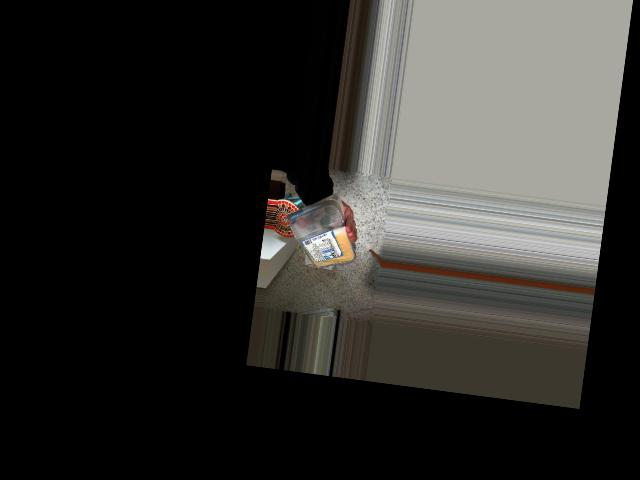cheese: (279, 198, 353, 276)
